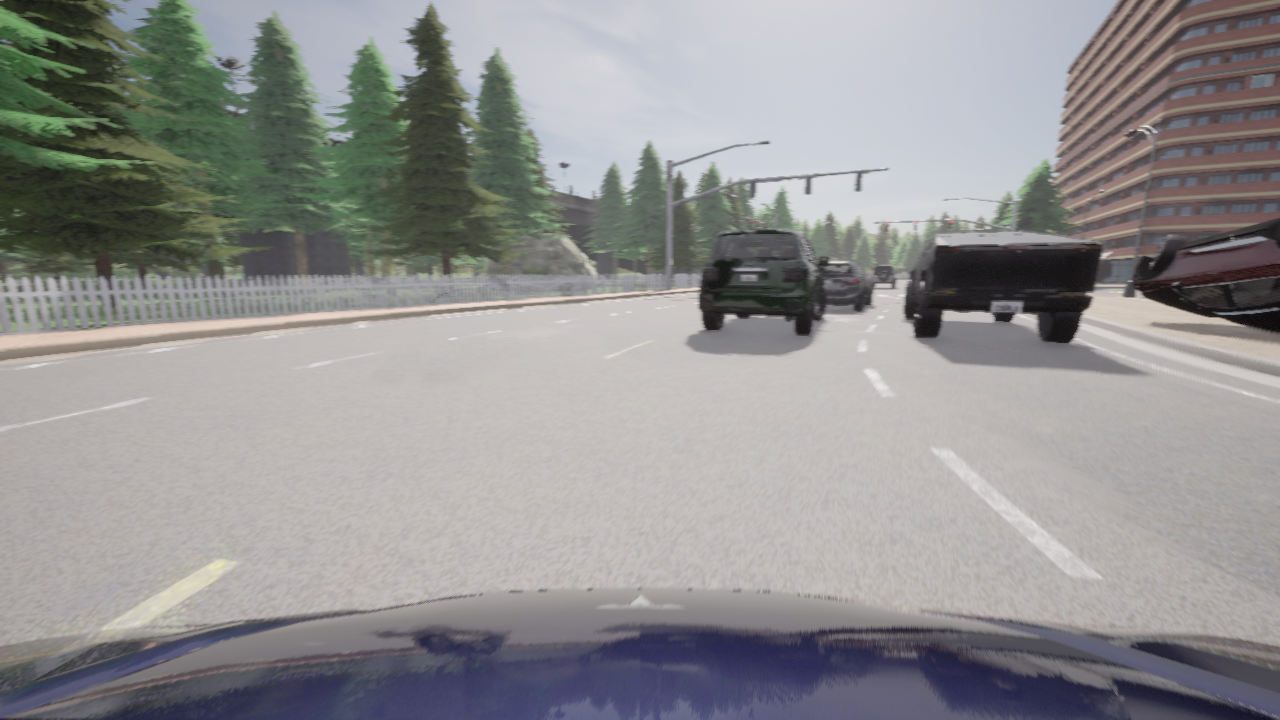cyclist: (0, 588, 1279, 719), (904, 230, 1103, 343), (1133, 218, 1279, 333), (699, 228, 828, 334), (816, 259, 872, 309), (870, 265, 896, 288)
